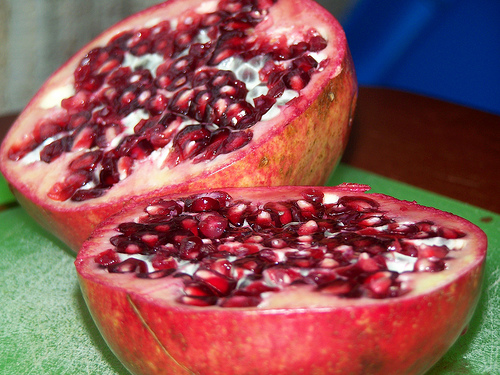pomogranate: (4, 0, 357, 257), (73, 183, 488, 374)
